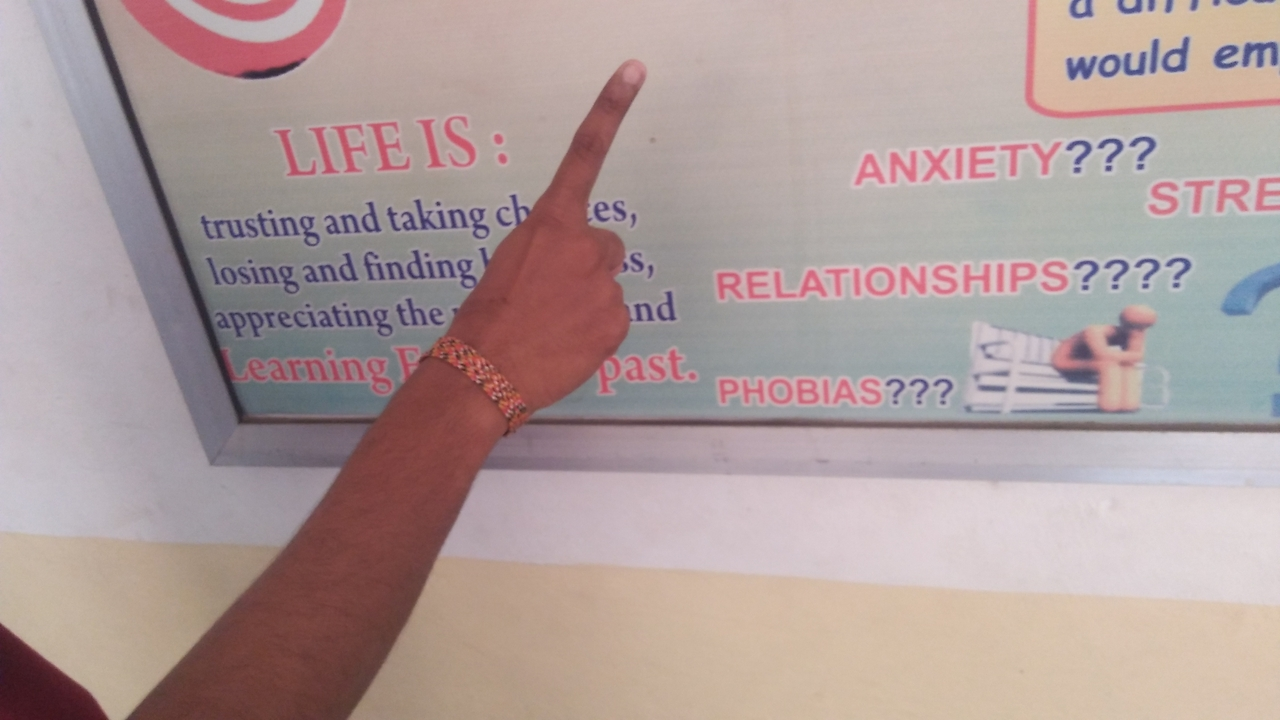fingertip: (598, 52, 650, 98)
